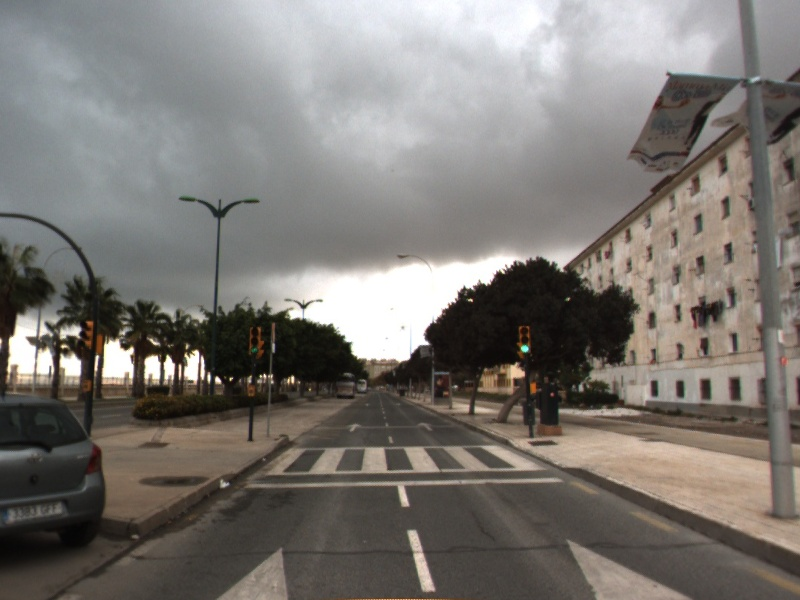STRAIGHT: (415, 420, 437, 433), (344, 421, 365, 434)
